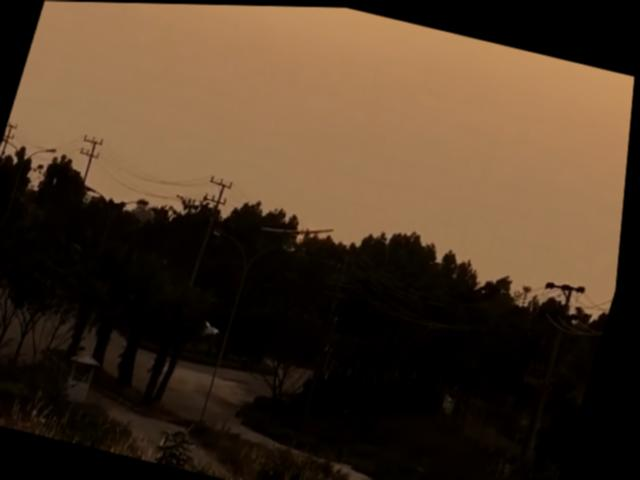plane: (260, 211, 338, 254)
